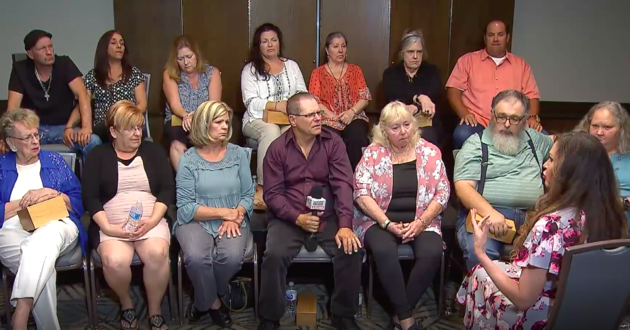person: (258, 91, 362, 326), (87, 104, 178, 322), (1, 106, 84, 327), (173, 100, 256, 318), (366, 98, 446, 322), (449, 97, 543, 219), (531, 130, 623, 244), (449, 7, 547, 93), (4, 23, 79, 135), (84, 24, 154, 110), (237, 22, 312, 93), (159, 26, 226, 101), (377, 23, 447, 94), (313, 25, 371, 93), (582, 100, 626, 164)
